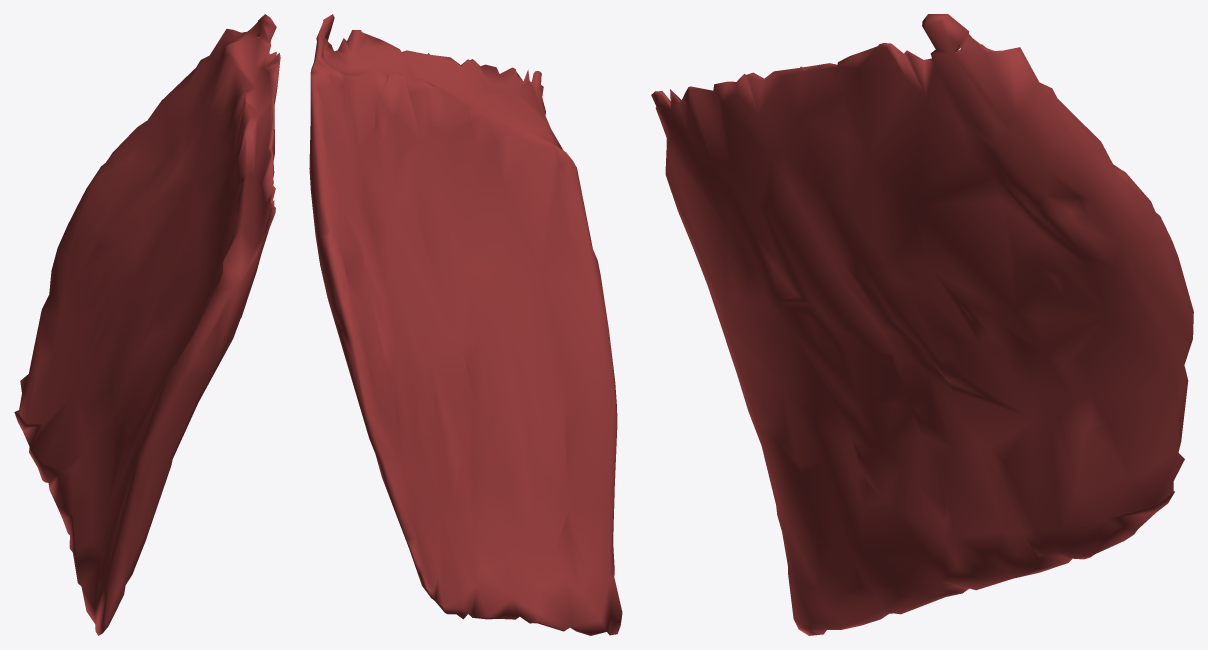
Rendered from superficial-part-of-masseter-l.glb.
3 views of the same model, side by side, from view 1: azimuth 30°, elevation 25°; view 2: azimuth 150°, elevation 25°; view 3: azimuth 270°, elevation 25° (orthographic). The views are drawn at different scales.
Parts seen in each view (by area): view 1: Superficial part of masseter.l; view 2: Superficial part of masseter.l; view 3: Superficial part of masseter.l.
Boxes of the visible parts, left/top/right/bottom form: Superficial part of masseter.l: left=14, top=14, right=280, bottom=635; Superficial part of masseter.l: left=309, top=14, right=622, bottom=635; Superficial part of masseter.l: left=651, top=14, right=1193, bottom=635.
Bounding box in the file's own units: 0.0266 × 0.0621 × 0.0395.
